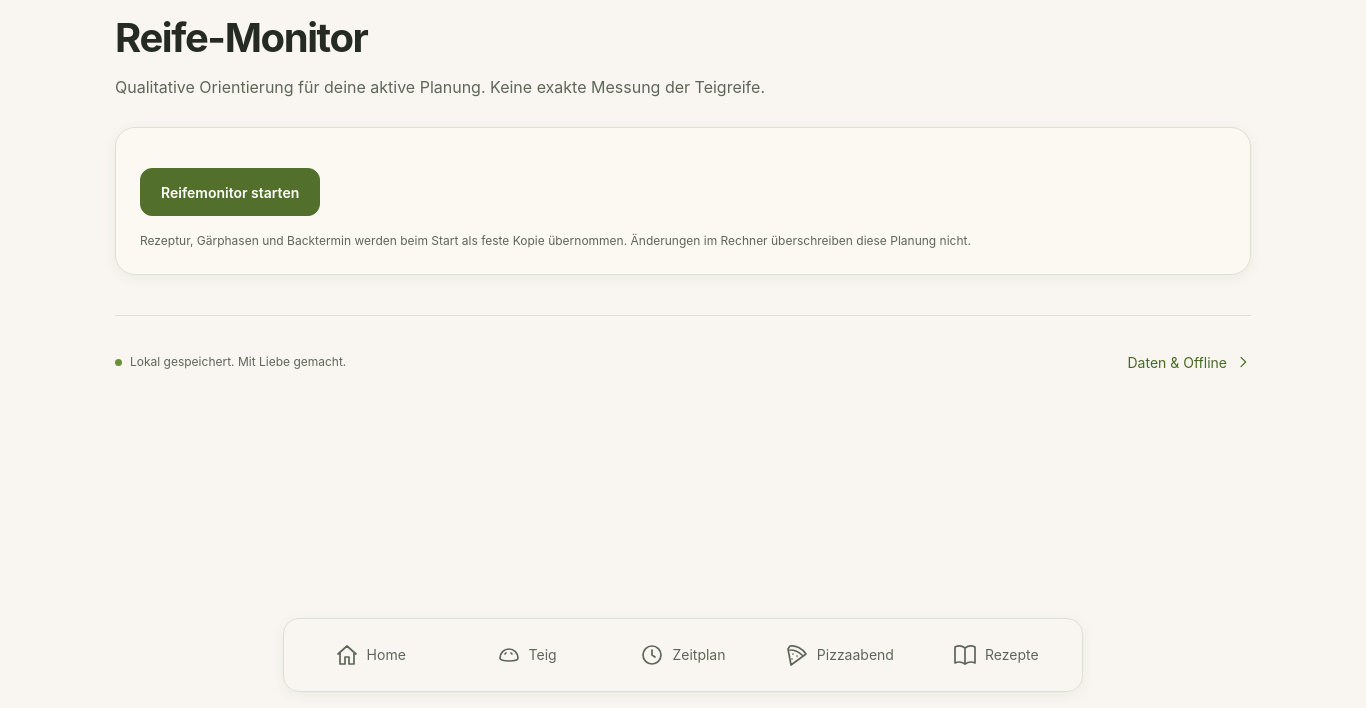
Scenario: P4 UI and shared TM5 temperature › records, skips and corrects optional checks without touching the schedule
This screenshot has width=1366, height=708.
Click the button "Reifemonitor starten" at (230, 192), box top-left (140, 168), bottom-right (320, 216)
(page scrolled)
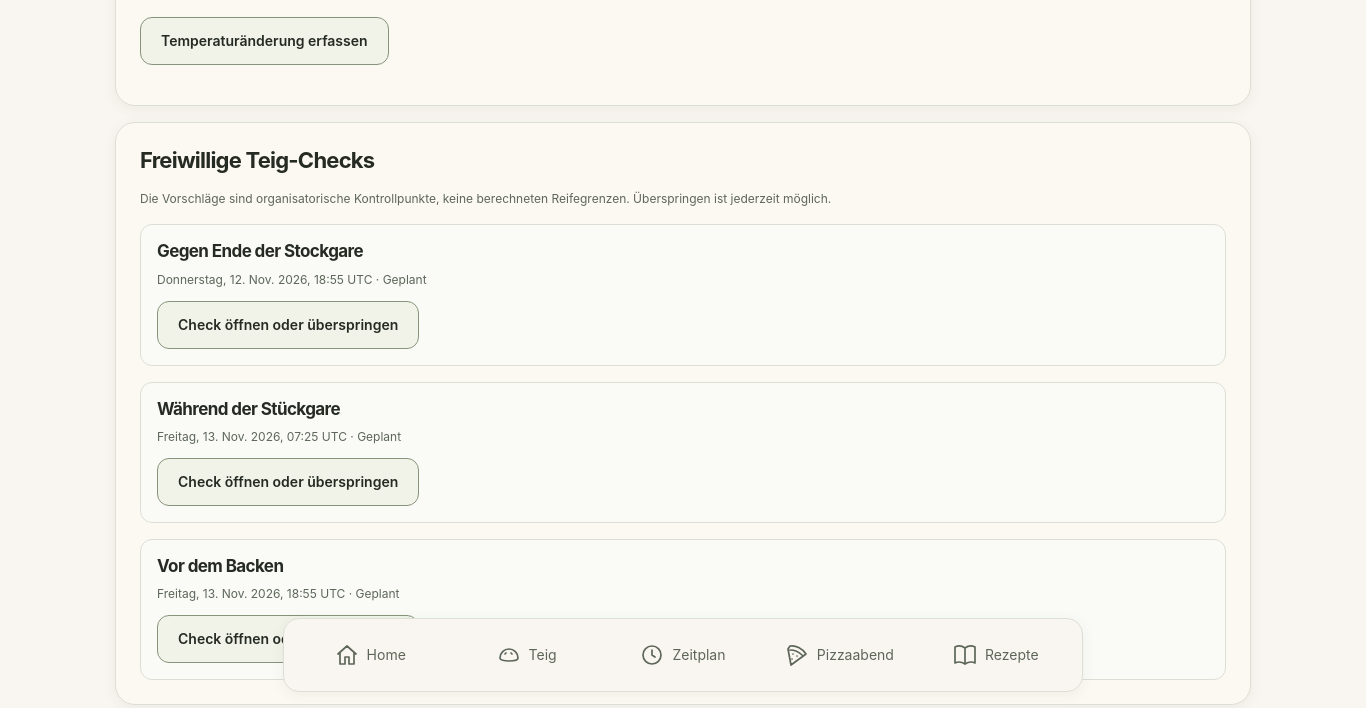
Click the 1st button "Check öffnen oder überspringen" at (288, 325), box top-left (157, 301), bottom-right (419, 349)
(page scrolled)
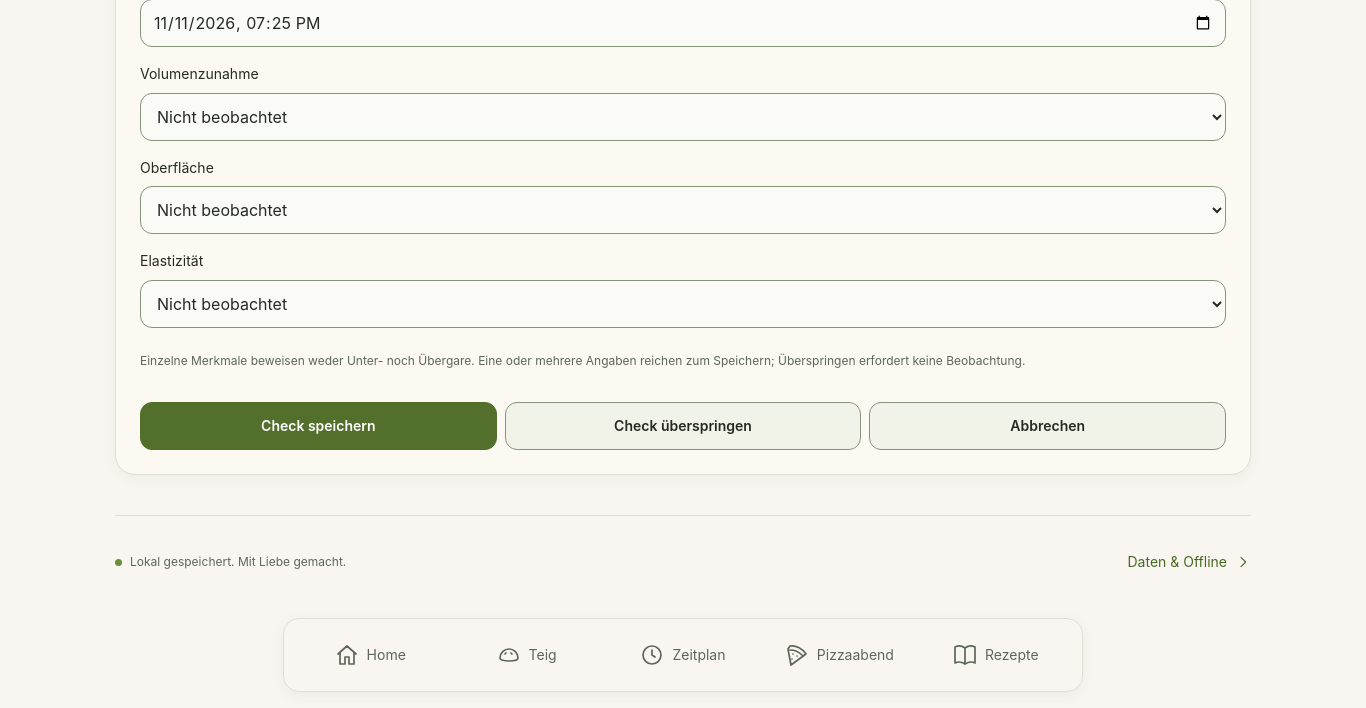
Click the button "Check überspringen" at (683, 426), box top-left (505, 402), bottom-right (861, 450)
(page scrolled)
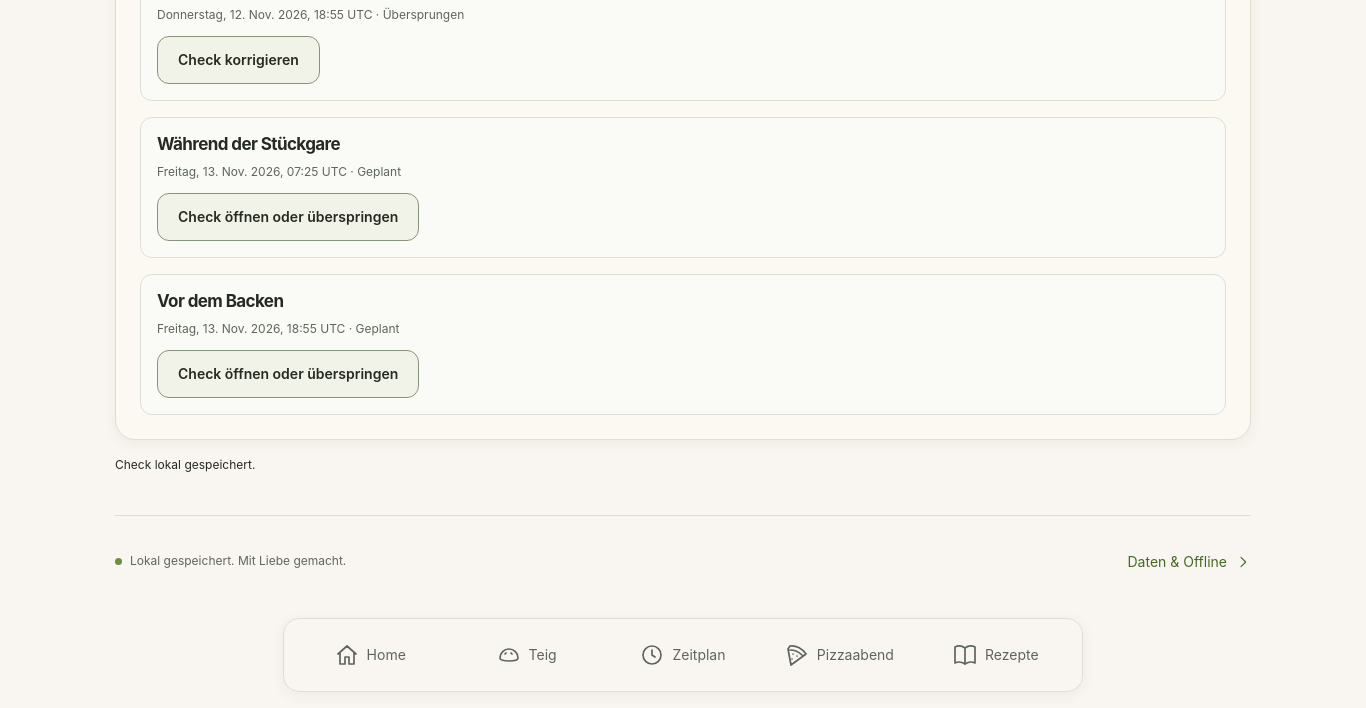
expect the text "Check lokal gespeichert." is shown: met, box top-left (115, 457), bottom-right (255, 472)
Click the button "Check korrigieren" at (238, 60), box top-left (157, 36), bottom-right (320, 84)
(page scrolled)
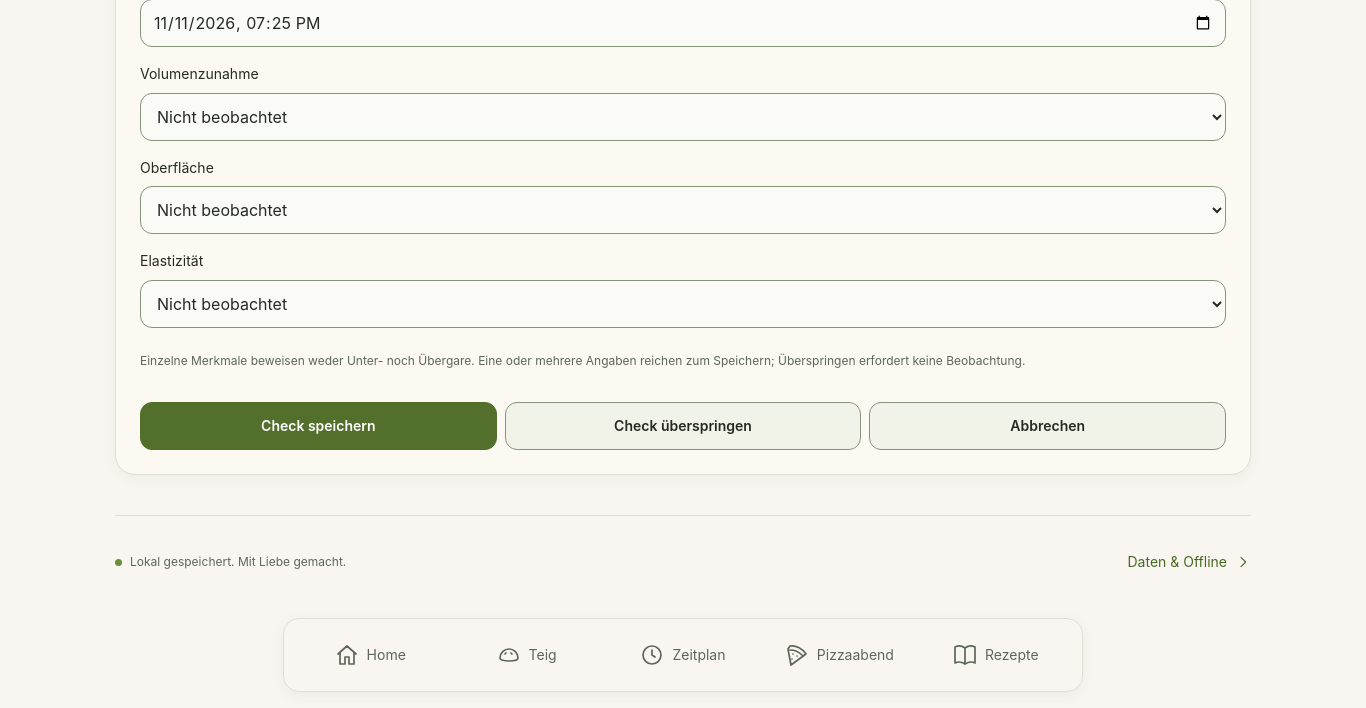
Select "Deutlich aufgegangen" in the dropdown labelled "Volumenzunahme" at (683, 117), box top-left (140, 93), bottom-right (1226, 141)
Select "Luftig mit sichtbaren Bläschen" in the dropdown labelled "Oberfläche" at (683, 210), box top-left (140, 186), bottom-right (1226, 234)
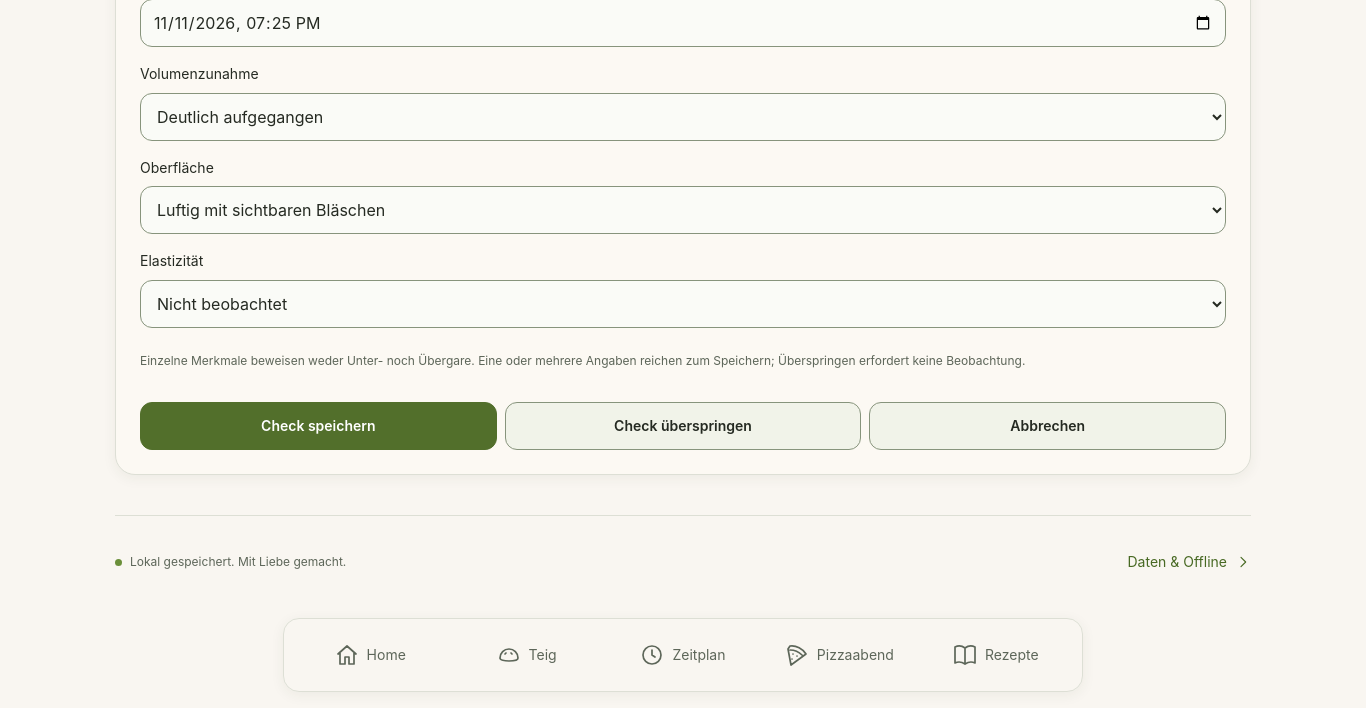
Click the button "Check speichern" at (318, 426), box top-left (140, 402), bottom-right (497, 450)
(page scrolled)
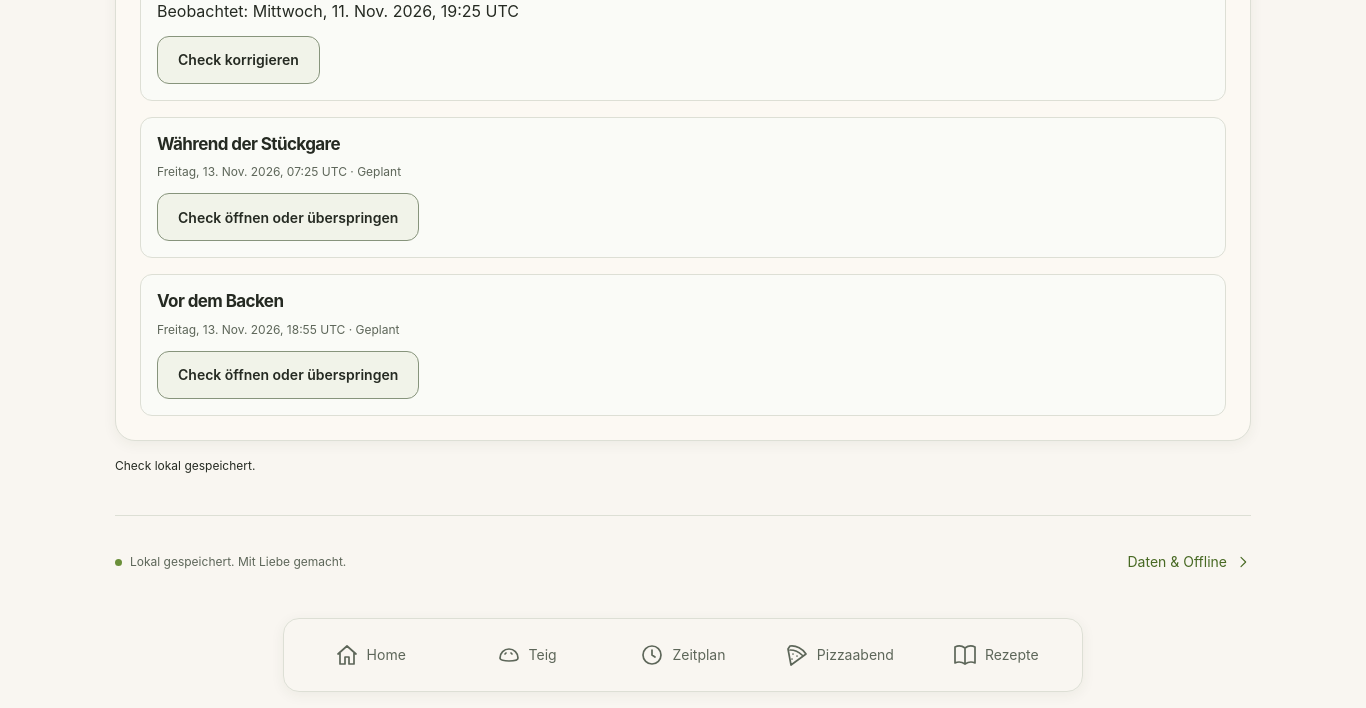
expect the text "Check lokal gespeichert." is shown: met, box top-left (115, 458), bottom-right (255, 473)
